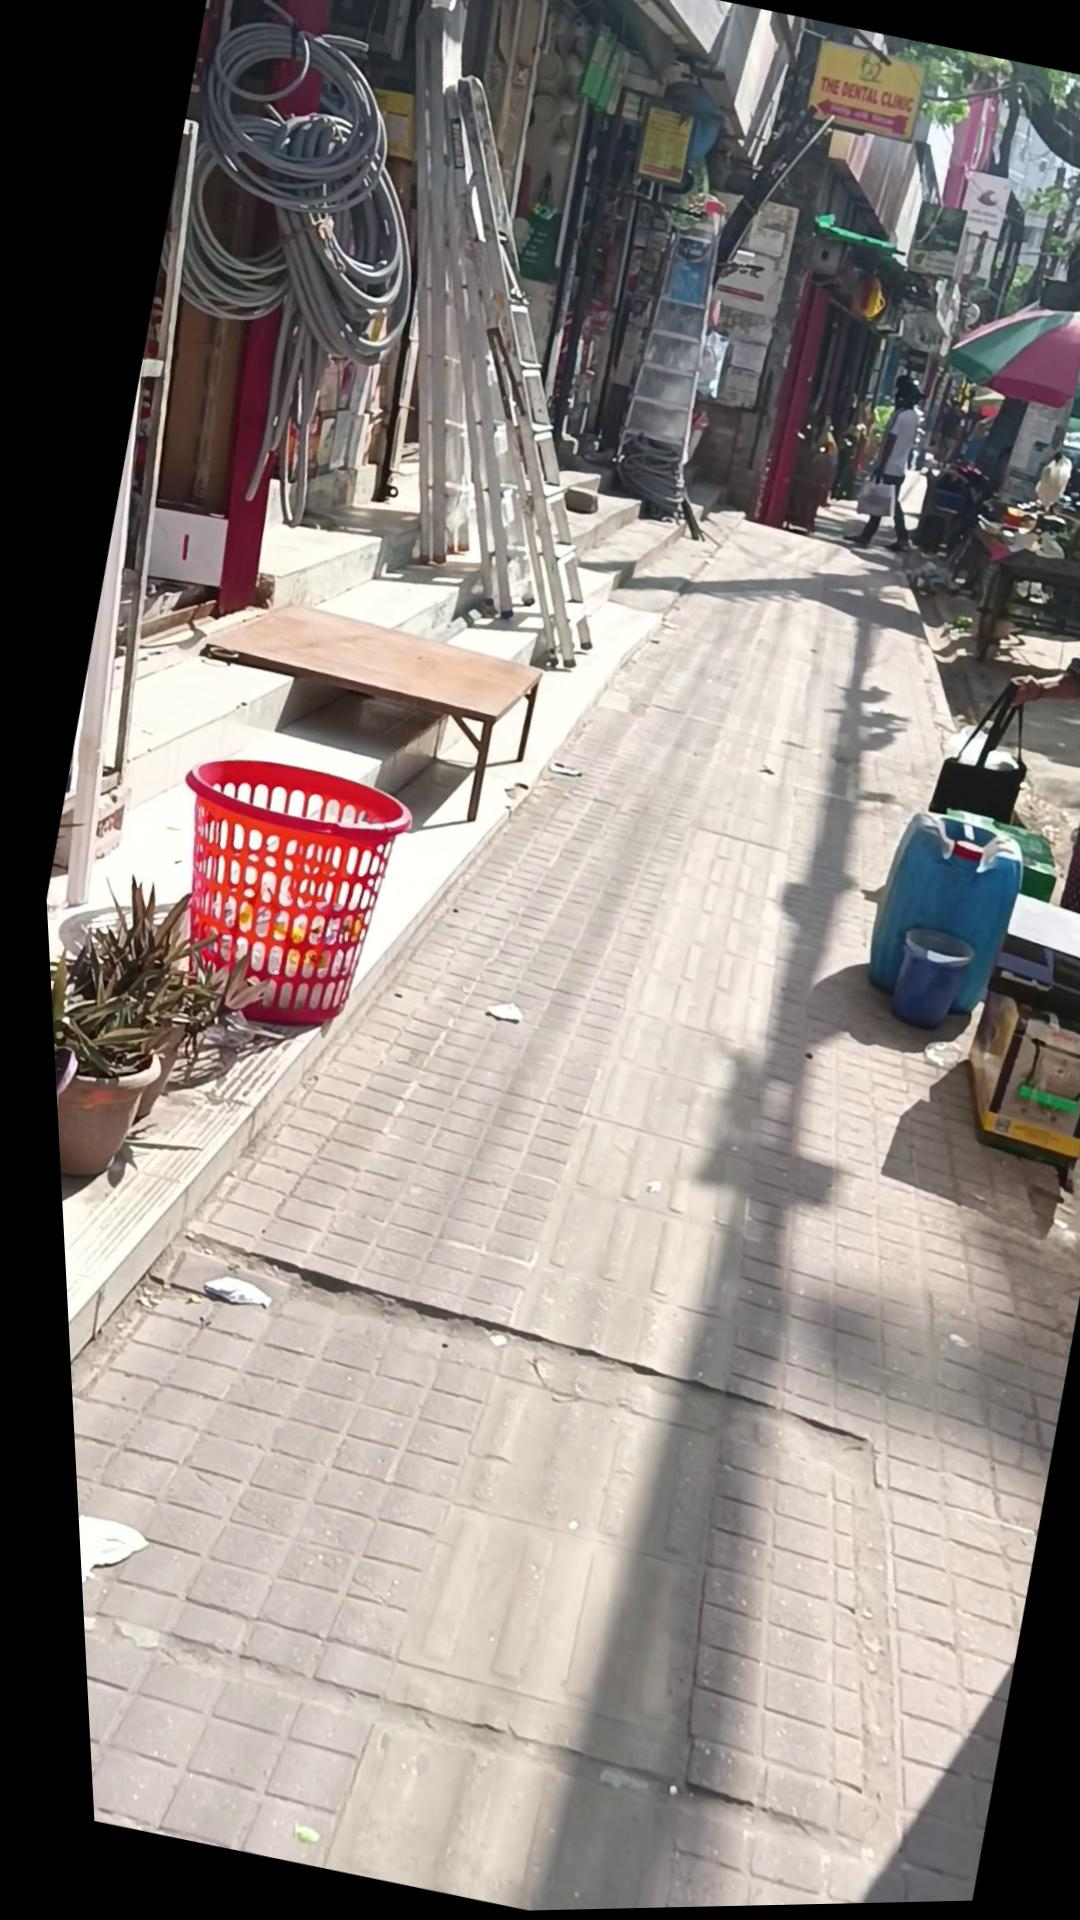Animal: (164, 578, 547, 839)
Cat: (121, 737, 419, 1054), (869, 924, 971, 1042)
Curb: (943, 498, 1080, 942)
Fallen-tree: (34, 852, 285, 1213)
Garbage: (16, 372, 1080, 1920)
